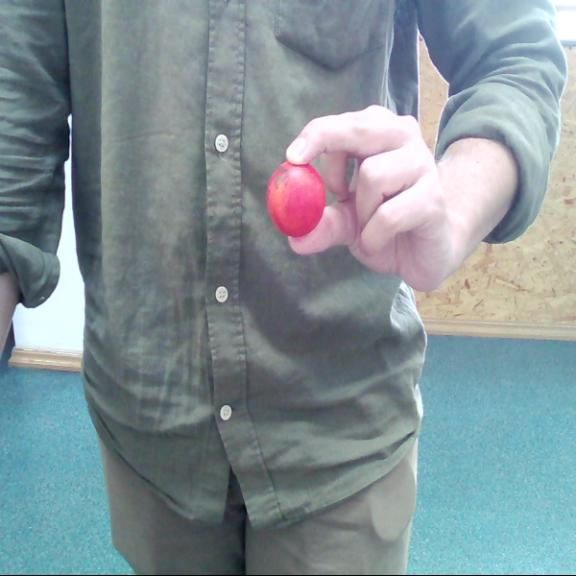ball: (269, 163, 325, 234)
